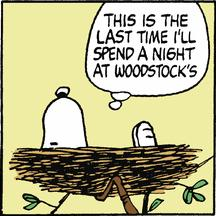snoopy: (40, 86, 158, 150)
